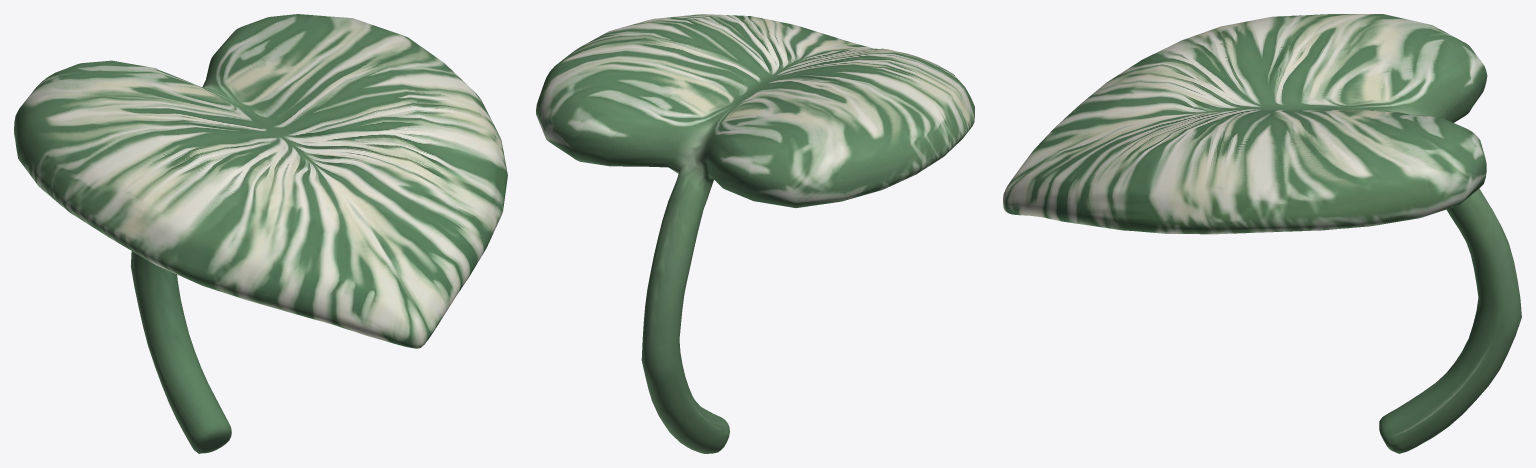
File: pothos_cream_marble.glb
3 renders of one model, left to right at view 1: azimuth 30°, elevation 25°; view 2: azimuth 150°, elevation 25°; view 3: azimuth 270°, elevation 25°, orthographic. The views are drawn at different scales.
Size of the model in its own units: 1.71 by 1.57 by 2.
1 material, 1 textured.
